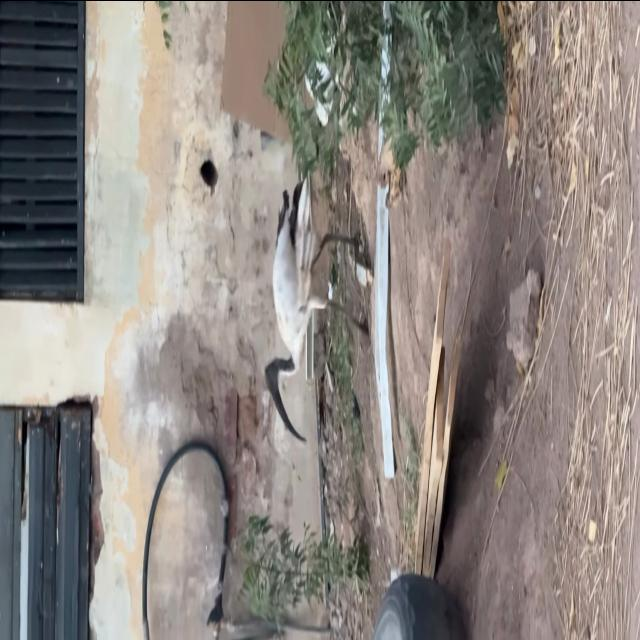Birds-Ibis: (261, 160, 373, 448)
